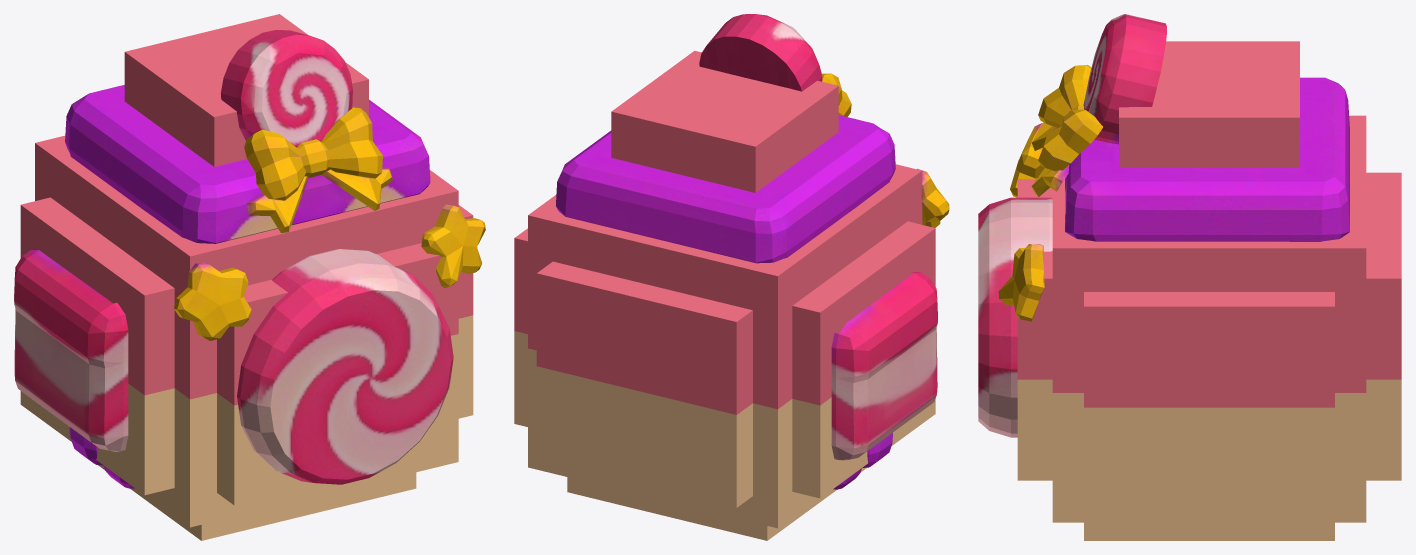
Rendered from Trung keo.fbx.
The picture shows the model from 3 angles, left to right: view 1: azimuth 30°, elevation 25°; view 2: azimuth 150°, elevation 25°; view 3: azimuth 270°, elevation 25°; orthographic projection. The views are drawn at different scales.
Parts seen in each view (by area): view 1: Trung_Keo; view 2: Trung_Keo; view 3: Trung_Keo.
Part boxes in pixels (bbox=[...]): Trung_Keo: bbox=[14, 14, 485, 540]; Trung_Keo: bbox=[514, 14, 949, 540]; Trung_Keo: bbox=[978, 14, 1401, 540].
Bounding box in the file's own units: 3.15 × 3.88 × 3.18.
